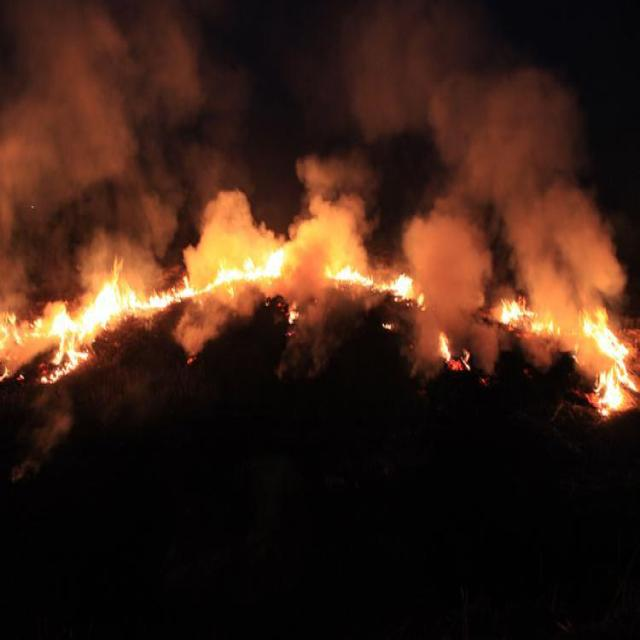fire: (151, 242, 425, 314), (502, 288, 636, 418), (5, 274, 146, 382), (431, 327, 476, 372)
smoke: (193, 157, 472, 277)
